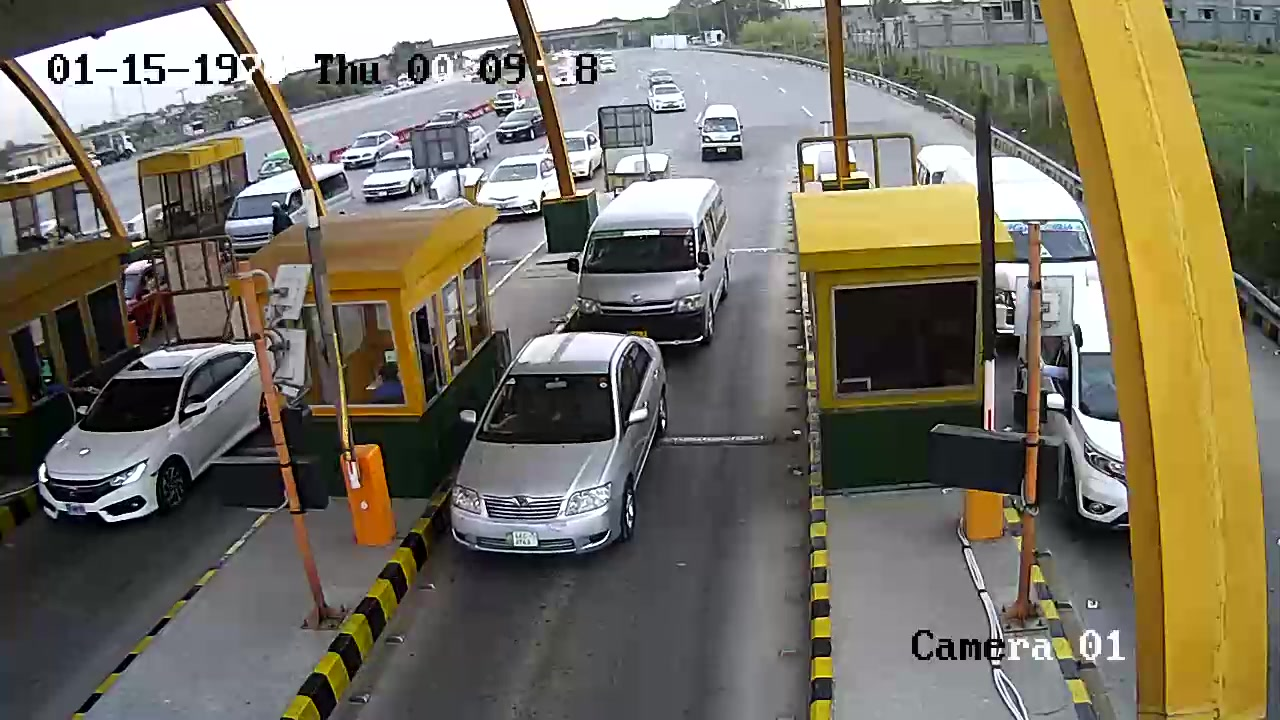F1: (446, 317, 668, 573)
F2: (576, 174, 737, 354)
